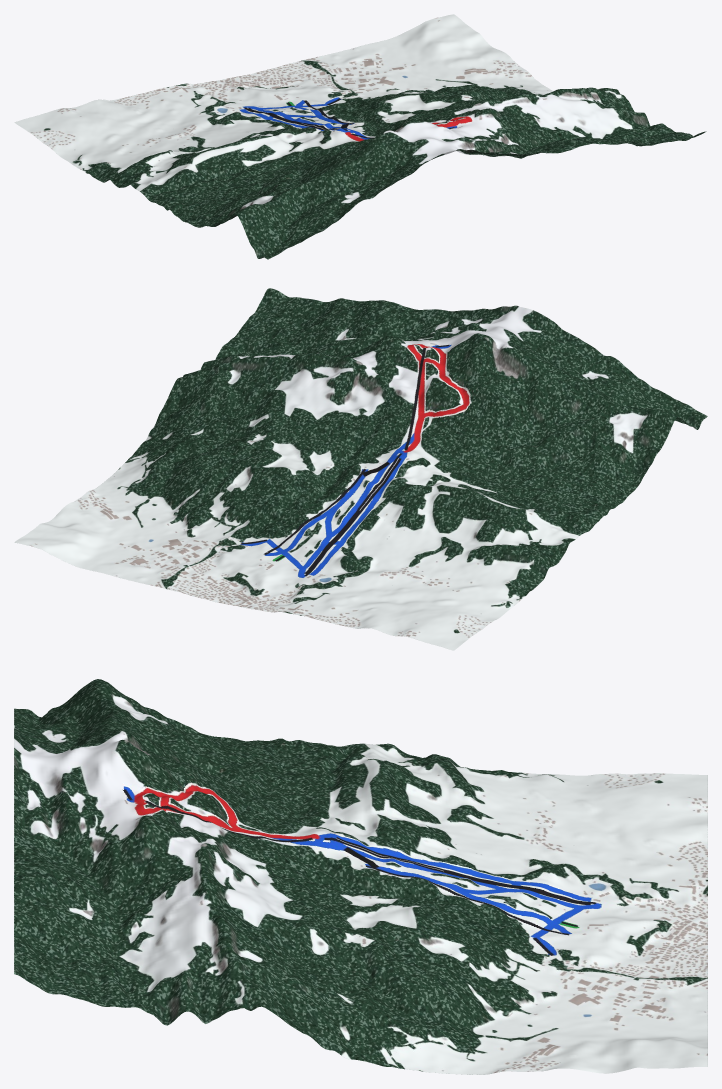
The picture shows the model from 3 angles, top to bottom: view 1: azimuth 30°, elevation 25°; view 2: azimuth 150°, elevation 25°; view 3: azimuth 270°, elevation 25°; orthographic projection. The views are drawn at different scales.
Visible parts, largest first — view 1: E1_Alpspitze.glb; view 2: E1_Alpspitze.glb; view 3: E1_Alpspitze.glb.
Boxes of the visible parts, x1,y1,x2,y2 form: E1_Alpspitze.glb: (14, 14, 706, 259); E1_Alpspitze.glb: (14, 288, 707, 650); E1_Alpspitze.glb: (14, 679, 707, 1074).
Bounding box in the file's own units: 3323 × 888 × 3323.
Materials: 1 (1 with a texture image).
